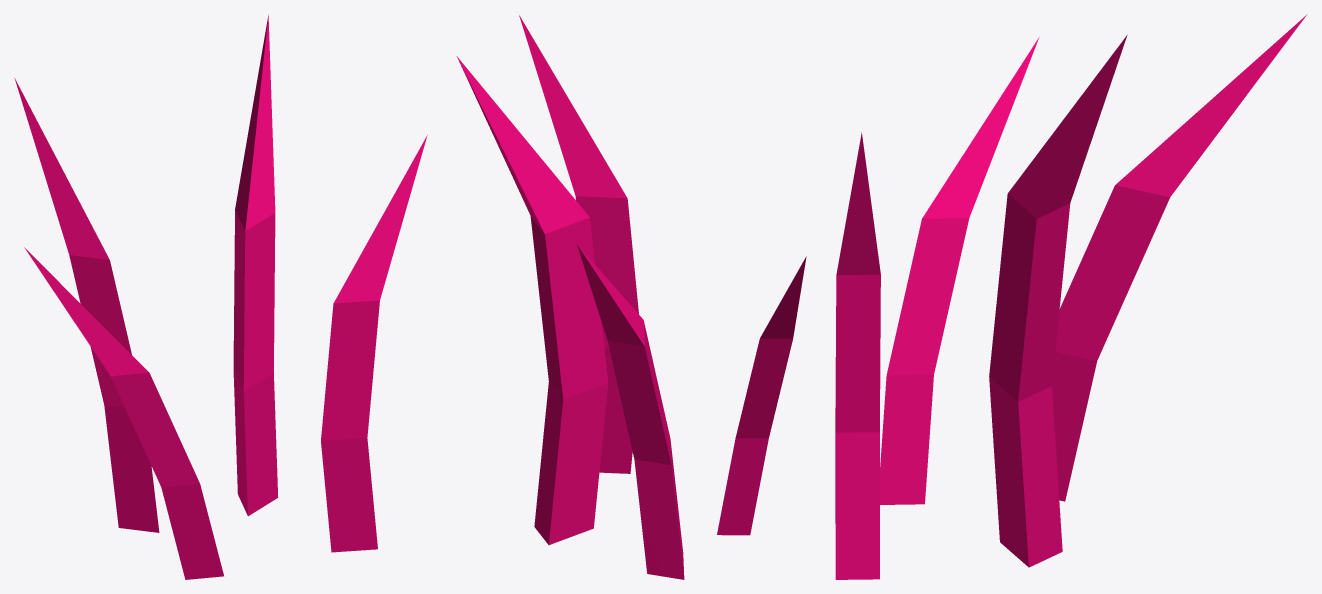
The model's file is SM_SS_Grass_2.fbx.
3 renders of one model, left to right at view 1: azimuth 30°, elevation 25°; view 2: azimuth 150°, elevation 25°; view 3: azimuth 270°, elevation 25°, orthographic. The views are drawn at different scales.
Parts seen in each view (by area): view 1: SM_SS_Grass_2; view 2: SM_SS_Grass_2; view 3: SM_SS_Grass_2.
Boxes of the visible parts, x1=… form: SM_SS_Grass_2: x1=14, y1=14, x2=427, y2=579; SM_SS_Grass_2: x1=456, y1=15, x2=806, y2=579; SM_SS_Grass_2: x1=835, y1=14, x2=1307, y2=579.
Size of the model in its own units: 18 by 17.98 by 23.69.
